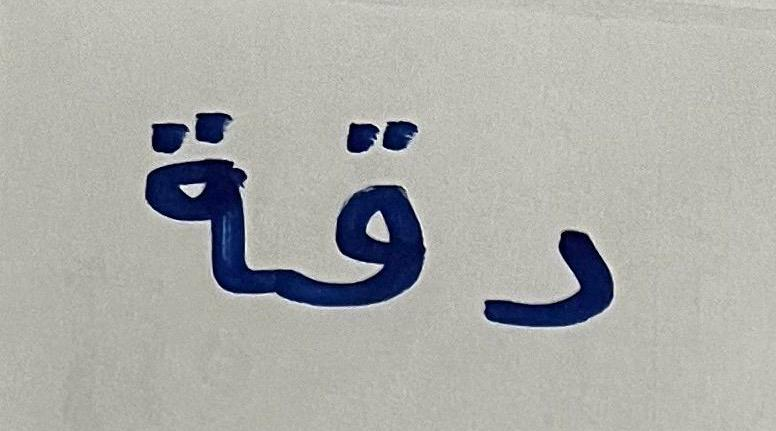dal: (465, 159, 653, 377)
qaf: (283, 75, 459, 350)
teh_marbota: (125, 55, 279, 342)
